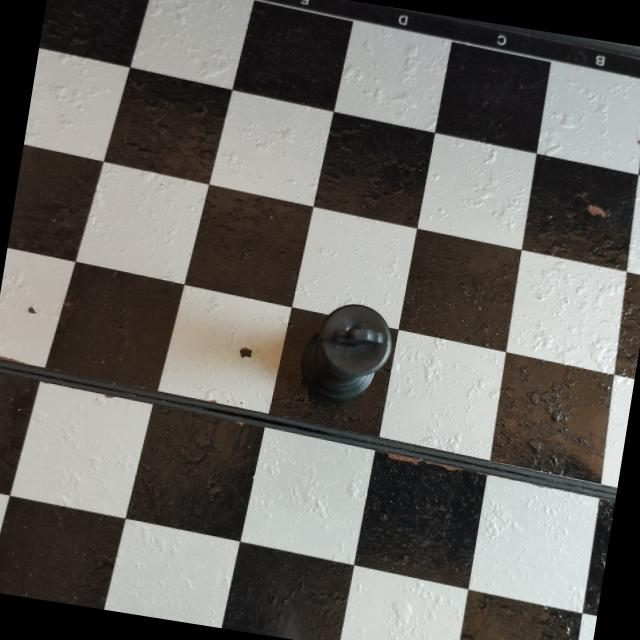Black King: (291, 289, 406, 427)
